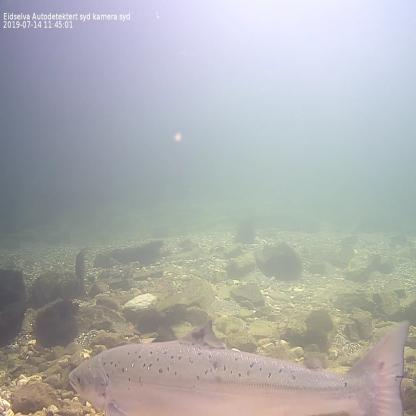salmon: (66, 314, 411, 414)
